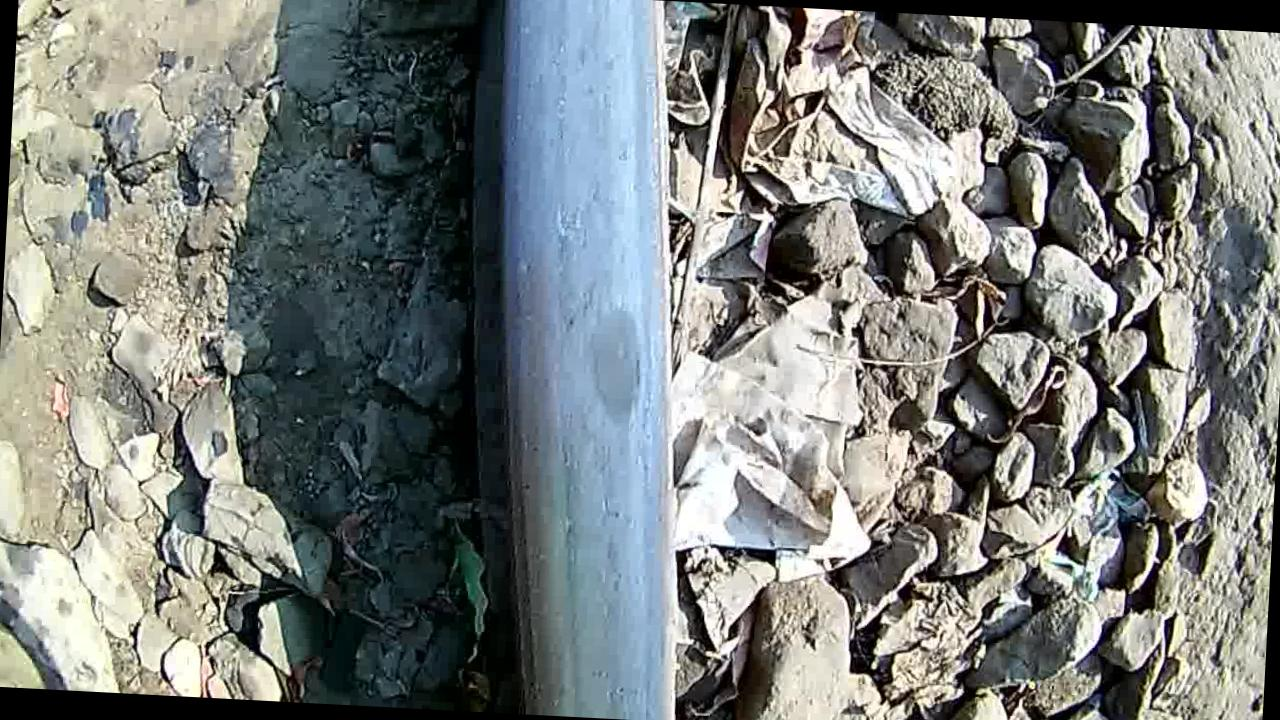bolt_missing: (545, 270, 686, 460)
